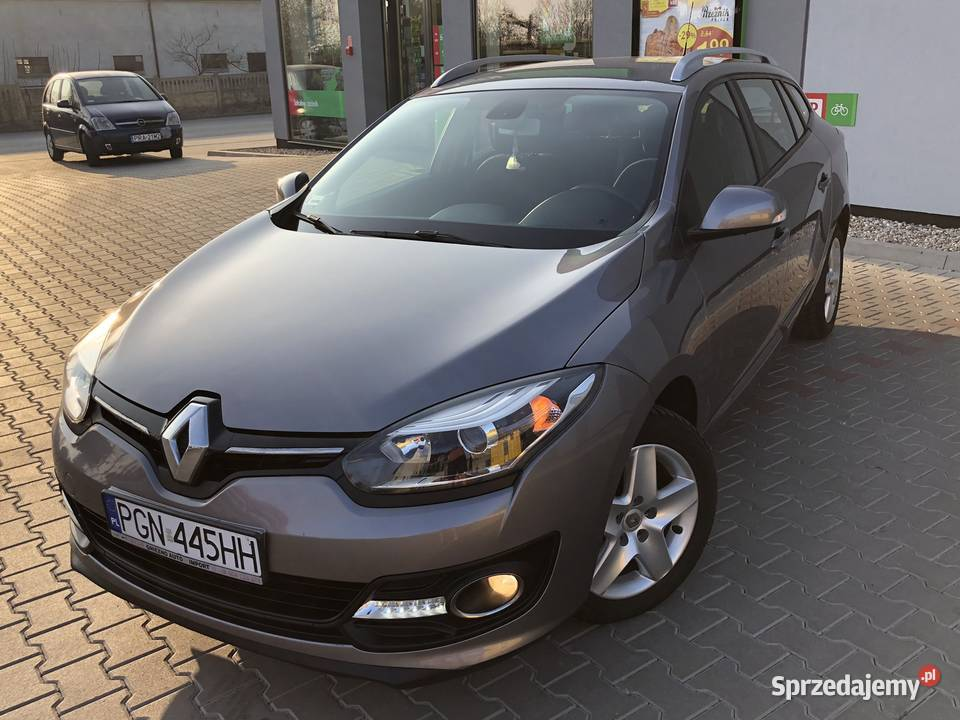tablica: (101, 491, 265, 585)
